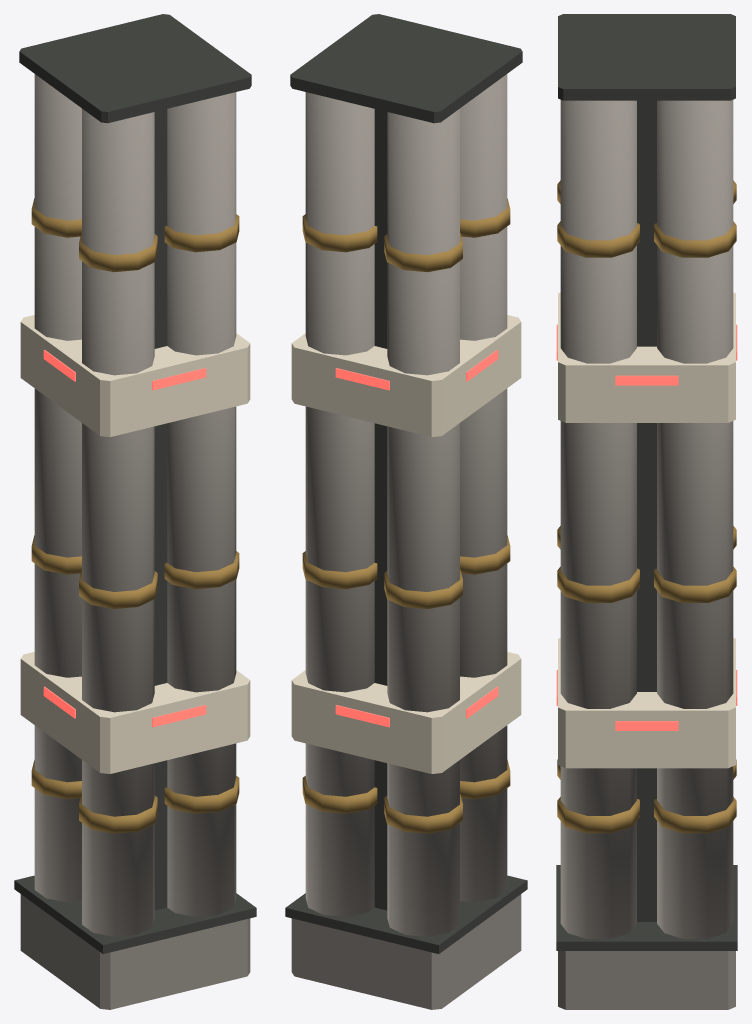
Rendered from b2_pipecluster.glb.
3 renders of one model, left to right at view 1: azimuth 30°, elevation 25°; view 2: azimuth 150°, elevation 25°; view 3: azimuth 270°, elevation 25°, orthographic. The views are drawn at different scales.
Visible parts, largest first — view 1: b2_pipecluster; view 2: b2_pipecluster; view 3: b2_pipecluster.
Part boxes in pixels (<box>): b2_pipecluster: <box>14,14,256,1009</box>; b2_pipecluster: <box>285,14,527,1009</box>; b2_pipecluster: <box>556,14,737,1009</box>.
Size of the model in its own units: 1.43 by 8 by 1.43.
